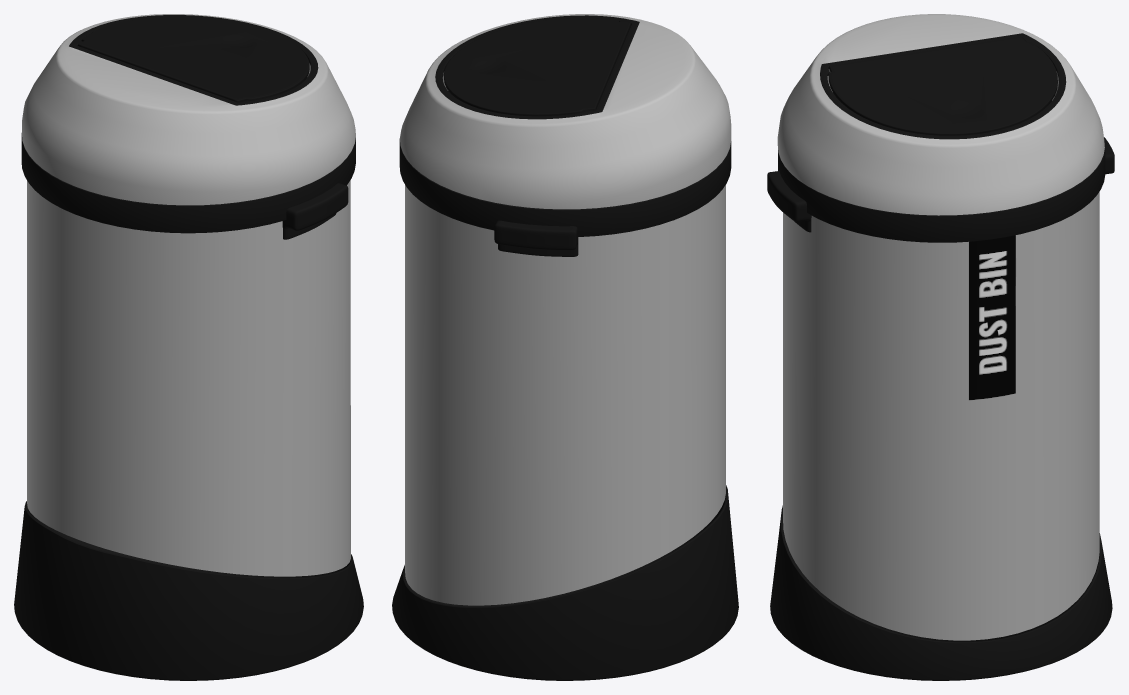
File: Dust Bin.FBX
3 views of the same model, side by side, from view 1: azimuth 30°, elevation 25°; view 2: azimuth 150°, elevation 25°; view 3: azimuth 270°, elevation 25° (orthographic). The views are drawn at different scales.
Parts seen in each view (by area): view 1: Dust Bin; view 2: Dust Bin; view 3: Dust Bin.
Part boxes in pixels (x1,y1,x2,y2): Dust Bin: (14, 14, 363, 680); Dust Bin: (392, 14, 738, 680); Dust Bin: (767, 14, 1114, 680).
Size of the model in its own units: 237 by 415 by 240.
1 material, 1 textured.
